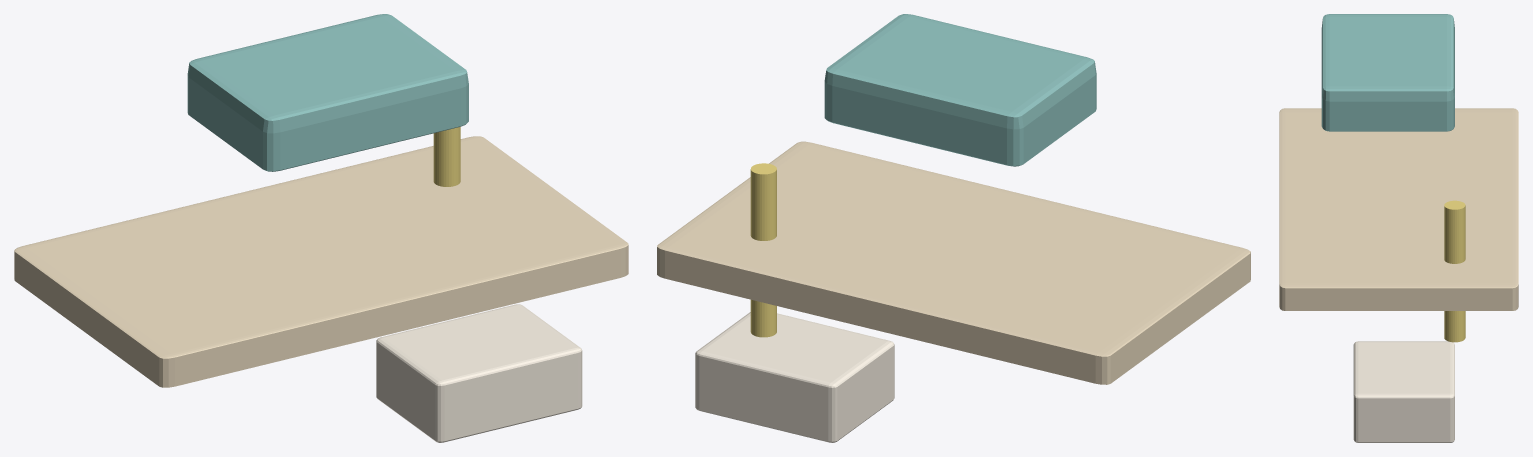
Rendered from vq1-pipeline-smoke.glb.
3 views of the same model, side by side, from view 1: azimuth 30°, elevation 25°; view 2: azimuth 150°, elevation 25°; view 3: azimuth 270°, elevation 25° (orthographic). The views are drawn at different scales.
Visible parts, largest first — view 1: Wood_Tabletop, Fabric_Cushion, Plastic_Shell, Metal_Pole; view 2: Wood_Tabletop, Fabric_Cushion, Plastic_Shell, Metal_Pole; view 3: Wood_Tabletop, Fabric_Cushion, Plastic_Shell, Metal_Pole.
Boxes of the visible parts, x1,y1,x2,y2 form: Wood_Tabletop: (14, 136, 628, 387); Fabric_Cushion: (187, 14, 468, 171); Plastic_Shell: (376, 304, 582, 442); Metal_Pole: (433, 127, 460, 186); Wood_Tabletop: (657, 141, 1250, 384); Fabric_Cushion: (824, 14, 1096, 166); Plastic_Shell: (695, 312, 894, 442); Metal_Pole: (750, 163, 776, 337); Wood_Tabletop: (1279, 108, 1518, 310); Fabric_Cushion: (1321, 14, 1454, 131); Plastic_Shell: (1353, 341, 1454, 442); Metal_Pole: (1444, 200, 1465, 342).
Bounding box in the file's own units: 1.6 × 1.26 × 0.9.
